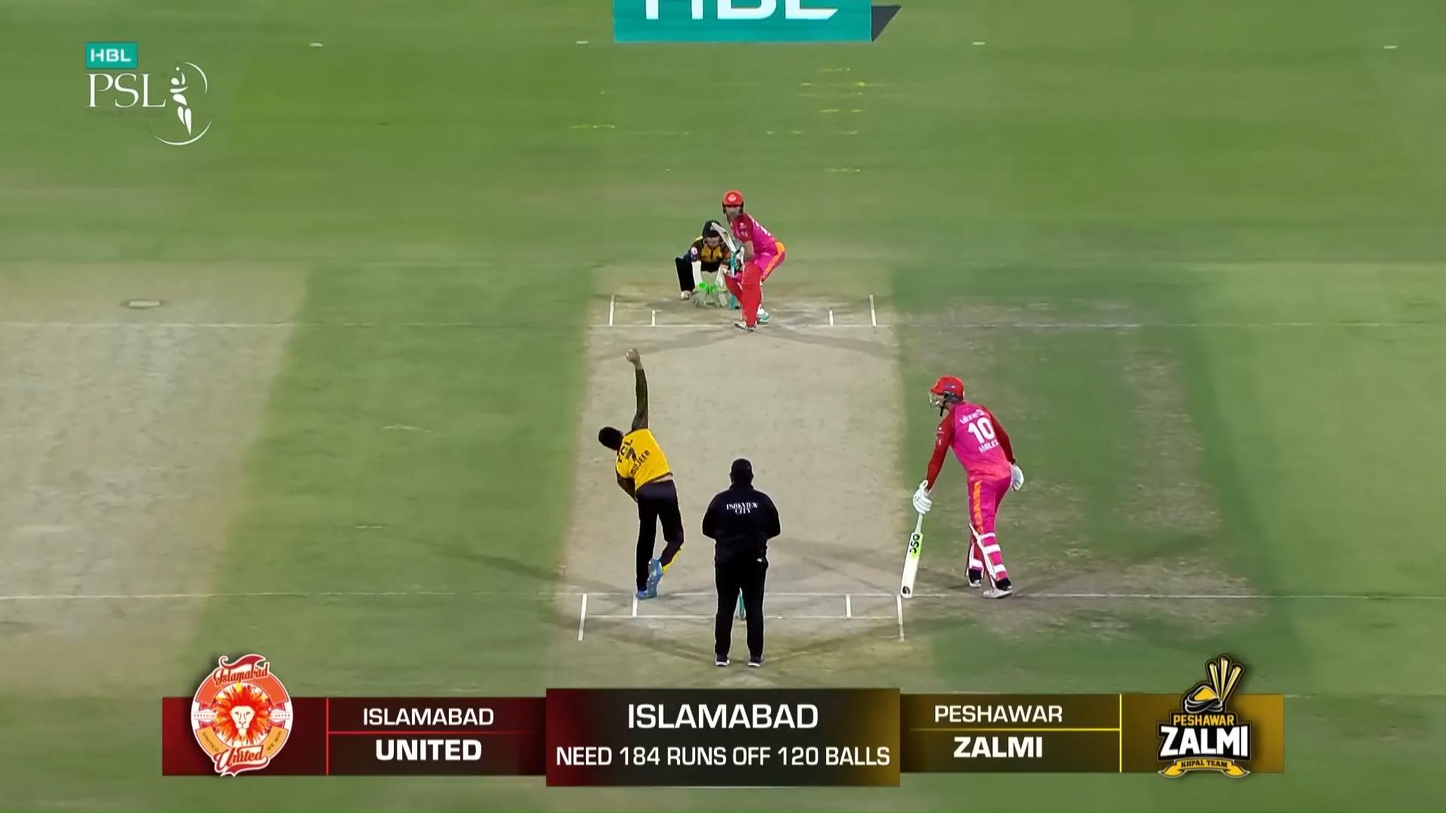batsman: (711, 192, 786, 332)
